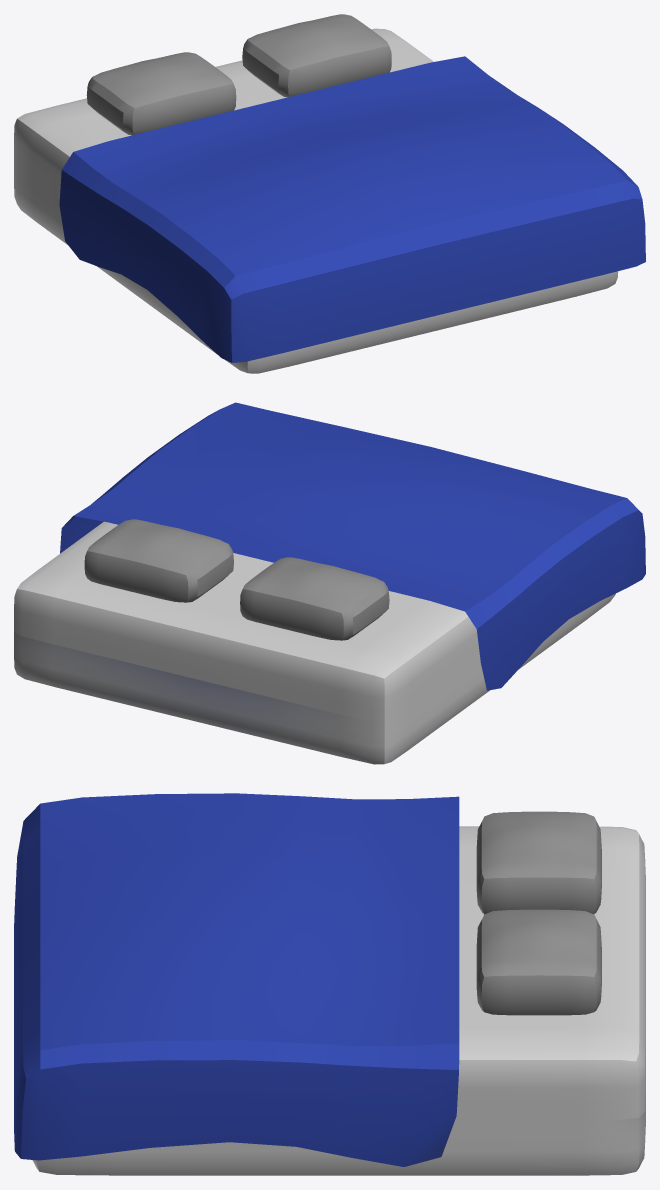
The model's file is KS_Kasur.fbx.
3 renders of one model, top to bottom at view 1: azimuth 30°, elevation 25°; view 2: azimuth 150°, elevation 25°; view 3: azimuth 270°, elevation 25°, orthographic. The views are drawn at different scales.
Parts seen in each view (by area): view 1: KS_Kasur; view 2: KS_Kasur; view 3: KS_Kasur.
Part boxes in pixels (left/top/right/bottom): KS_Kasur: left=14, top=14, right=645, bottom=373; KS_Kasur: left=14, top=402, right=645, bottom=764; KS_Kasur: left=14, top=793, right=645, bottom=1175.
Size of the model in its own units: 230 by 74.37 by 231.
